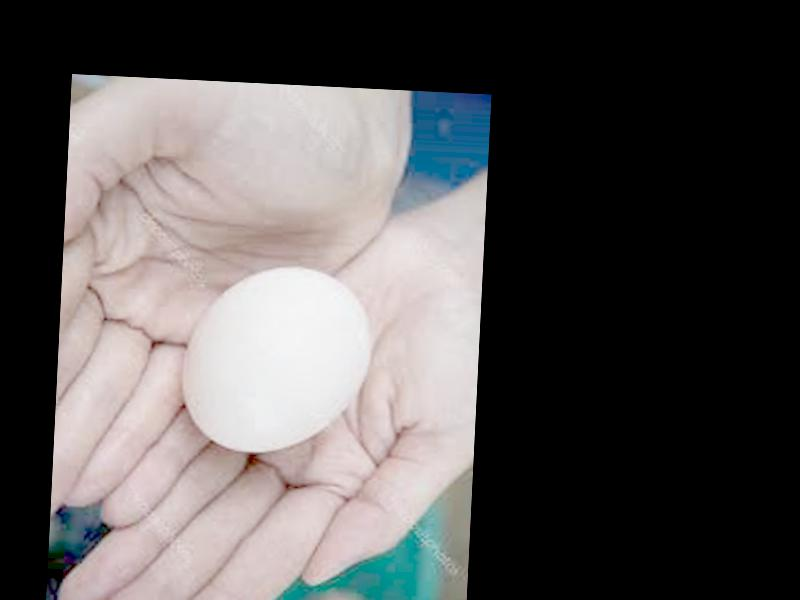Eggs: (184, 263, 369, 457)
